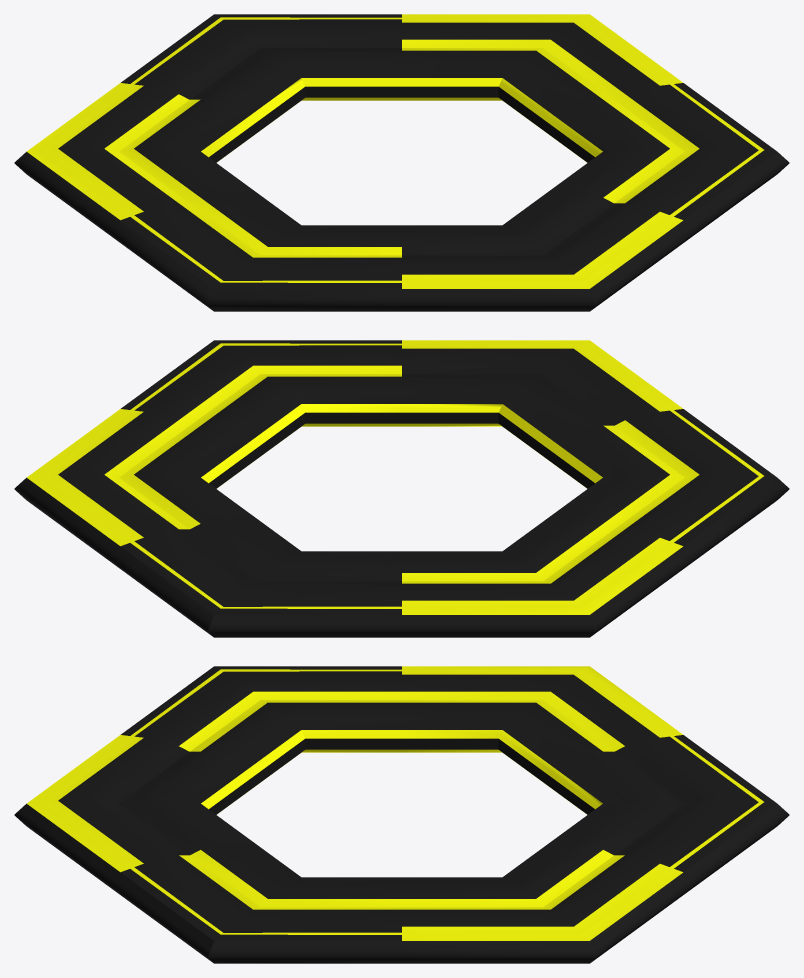
The model's file is tetra.fbx.
The picture shows the model from 3 angles, top to bottom: view 1: azimuth 30°, elevation 25°; view 2: azimuth 150°, elevation 25°; view 3: azimuth 270°, elevation 25°; orthographic projection.
Parts seen in each view (by area): view 1: Tube004; view 2: Tube004; view 3: Tube004.
Part boxes in pixels (x1,y1,x2,y2): Tube004: [14, 14, 789, 311]; Tube004: [14, 340, 789, 637]; Tube004: [14, 666, 789, 963].
Bounding box in the file's own units: 5.93 × 0.3354 × 6.85.
